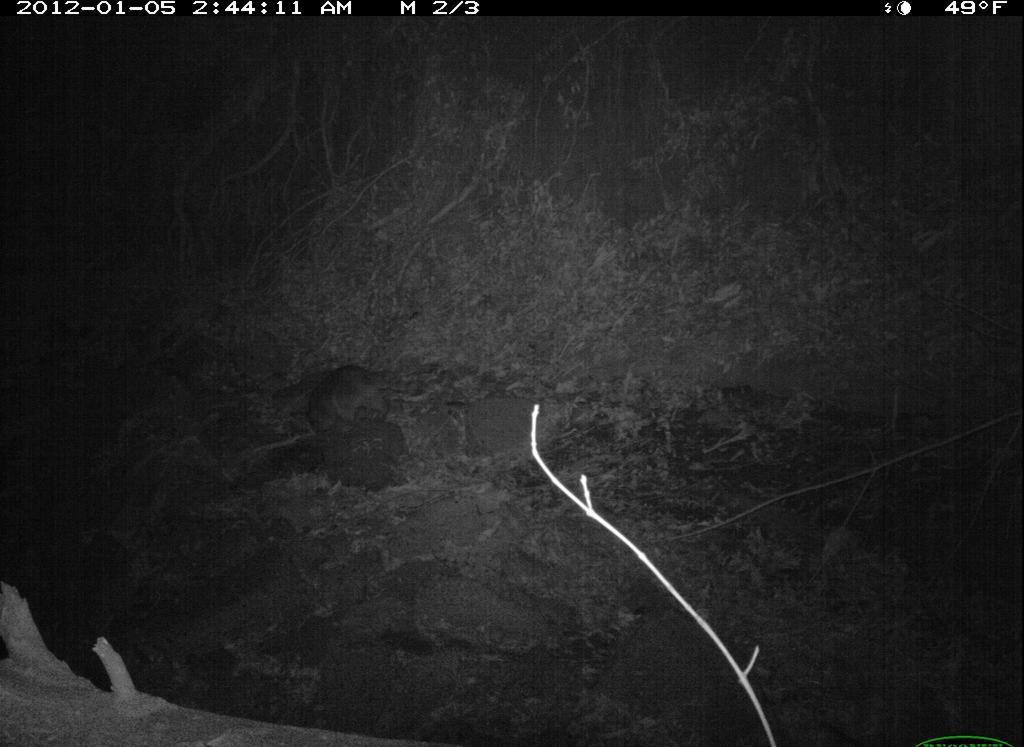raccoon: (280, 355, 420, 459)
